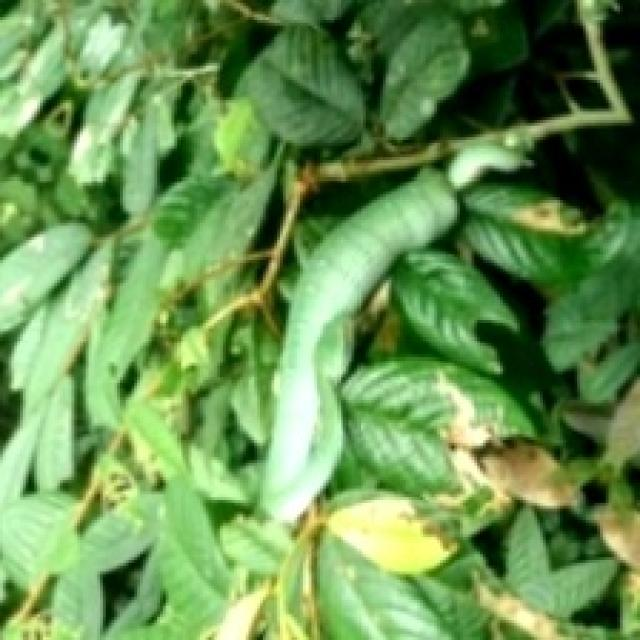north ph temple pitviper: (260, 140, 520, 520), (260, 169, 454, 520), (514, 0, 629, 137)
